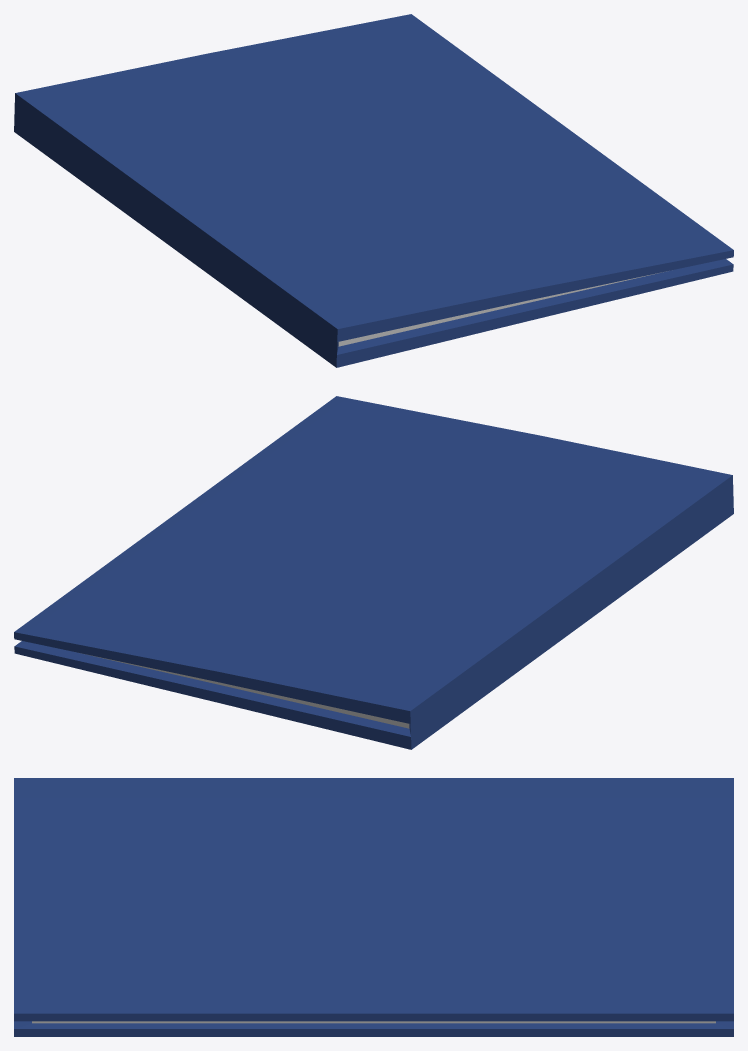
The picture shows the model from 3 angles, top to bottom: view 1: azimuth 30°, elevation 25°; view 2: azimuth 150°, elevation 25°; view 3: azimuth 270°, elevation 25°; orthographic projection. The views are drawn at different scales.
Parts seen in each view (by area): view 1: FILES; view 2: FILES; view 3: FILES.
Part boxes in pixels (x1=…): FILES: x1=14, y1=14, x2=733, y2=367; FILES: x1=14, y1=396, x2=733, y2=749; FILES: x1=14, y1=778, x2=733, y2=1036.
Bounding box in the file's own units: 1.17 × 0.1091 × 1.64.
